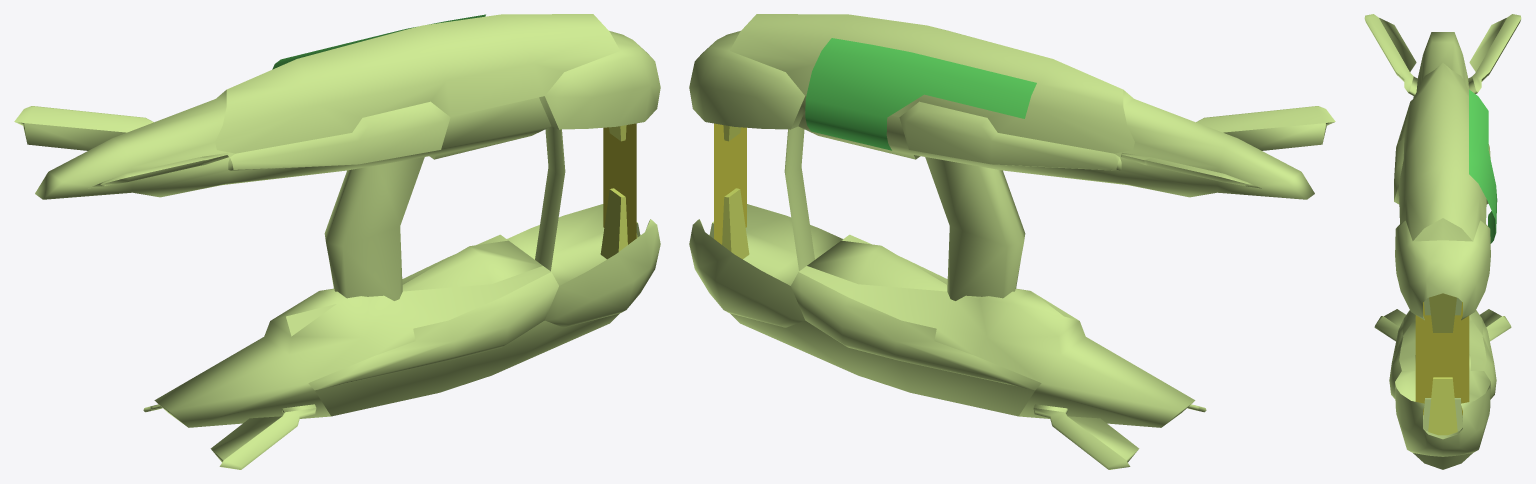
Rendered from plasmarifle.fbx.
3 views of the same model, side by side, from view 1: azimuth 30°, elevation 25°; view 2: azimuth 150°, elevation 25°; view 3: azimuth 270°, elevation 25° (orthographic). The views are drawn at different scales.
Parts seen in each view (by area): view 1: L6 default default; view 2: L6 default default; view 3: L6 default default.
Boxes of the visible parts, left/top/right/bottom form: L6 default default: left=14, top=14, right=660, bottom=469; L6 default default: left=689, top=14, right=1335, bottom=469; L6 default default: left=1364, top=14, right=1521, bottom=469.
Size of the model in its own units: 2152 by 1247 by 594.
